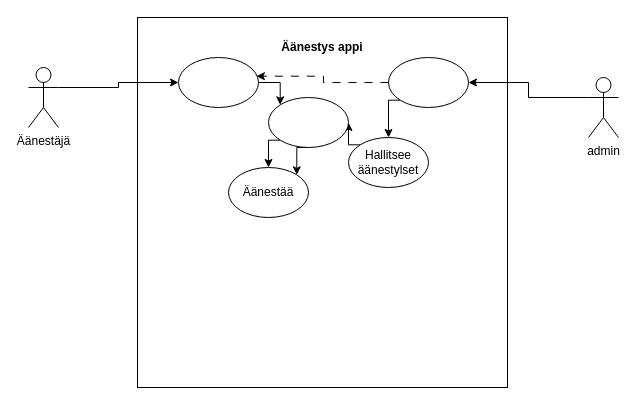
Image size: 637x405. Some labels were removed from this diagram. The centre of each missing label's shape, as x and y in pixels:
"Admin tili" belongs at (x=428, y=82).
"Selaa äänestyksiä" belongs at (x=308, y=122).
"Tili" belongs at (x=218, y=82).
